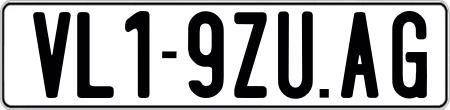1: (123, 8, 149, 96)
9: (186, 10, 228, 100)
A: (340, 11, 380, 100)
G: (390, 8, 426, 98)
L: (75, 11, 117, 99)
U: (275, 8, 314, 100)
V: (31, 10, 71, 101)
Z: (233, 11, 269, 97)
